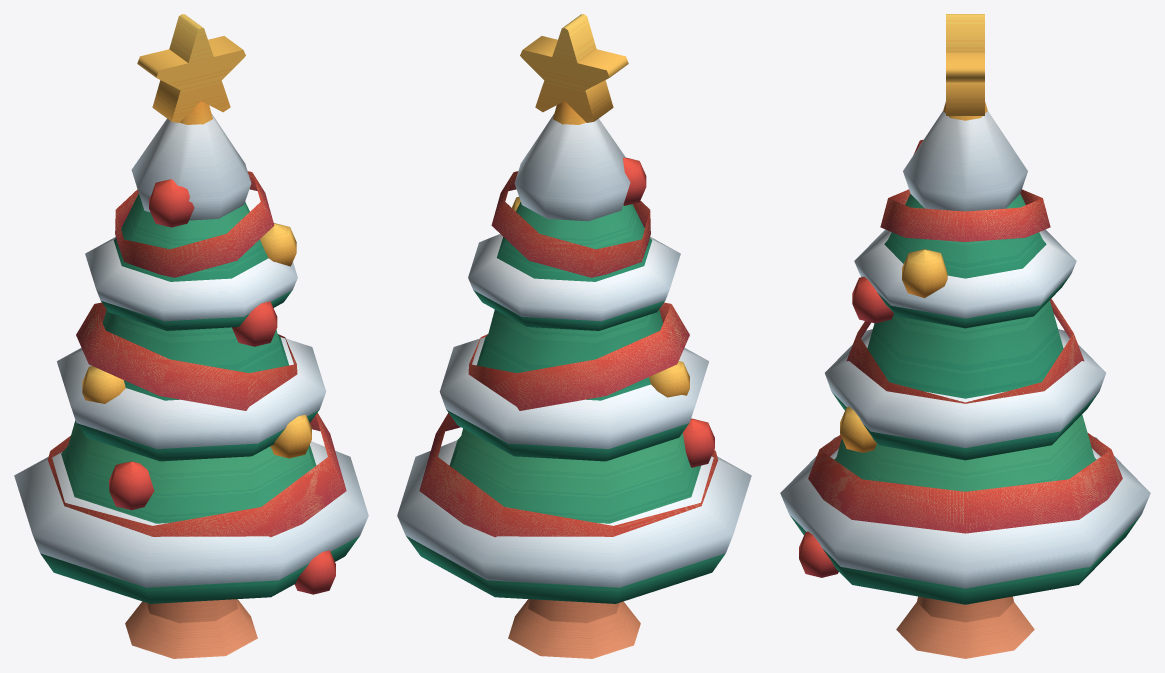
The model's file is tree-decorated-snow.glb.
The picture shows the model from 3 angles, left to right: view 1: azimuth 30°, elevation 25°; view 2: azimuth 150°, elevation 25°; view 3: azimuth 270°, elevation 25°; orthographic projection.
Visible parts, largest first — view 1: tree-decorated-snow; view 2: tree-decorated-snow; view 3: tree-decorated-snow.
Part boxes in pixels (x1,y1,x2,y2): tree-decorated-snow: (14, 14, 368, 658); tree-decorated-snow: (397, 14, 751, 658); tree-decorated-snow: (780, 14, 1150, 658).
Size of the model in its own units: 1.25 by 2.29 by 1.25.
1 material, 1 textured.
